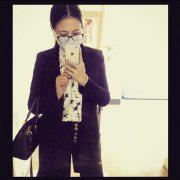OK: (56, 25, 84, 52)
